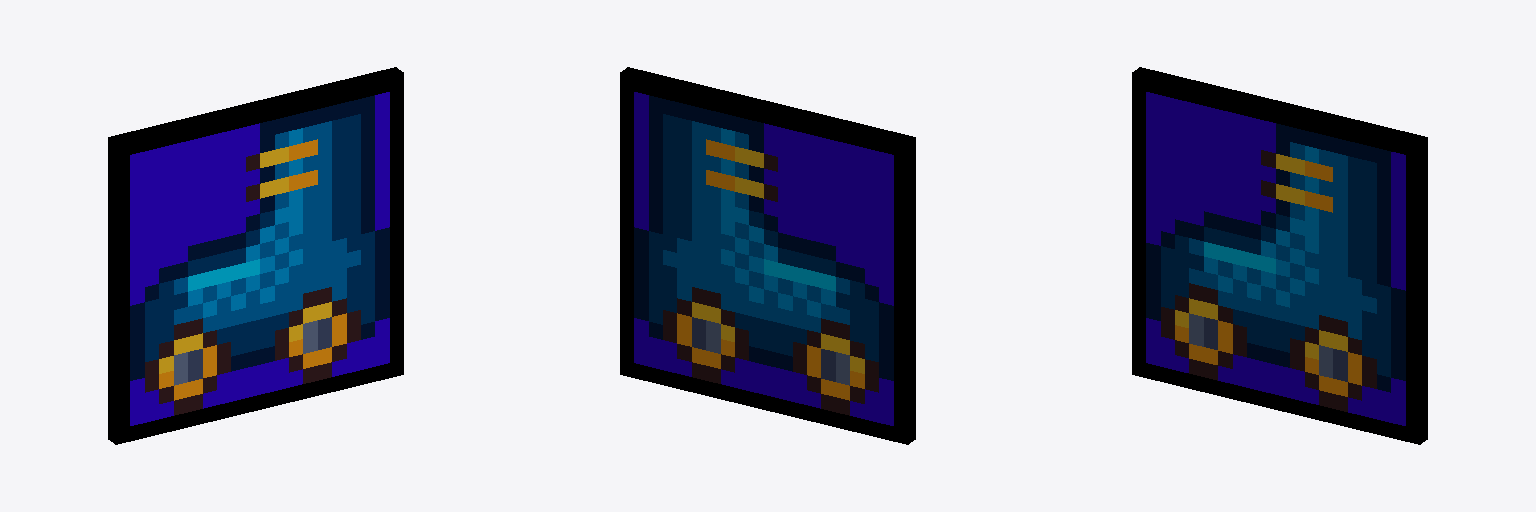
3 renders of one model, left to right at view 1: azimuth 30°, elevation 25°; view 2: azimuth 150°, elevation 25°; view 3: azimuth 330°, elevation 25°, orthographic.
Size of the model in its own units: 20 by 20 by 1.
1 materials, 1 textured.